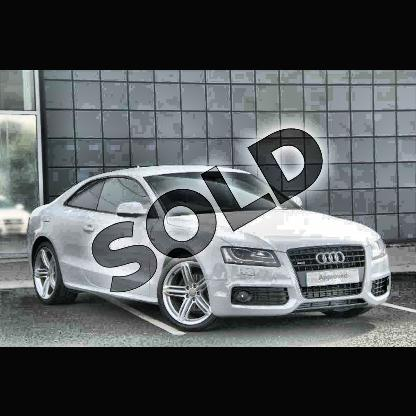Audi A5 Coupe 2012: (28, 166, 394, 333)
